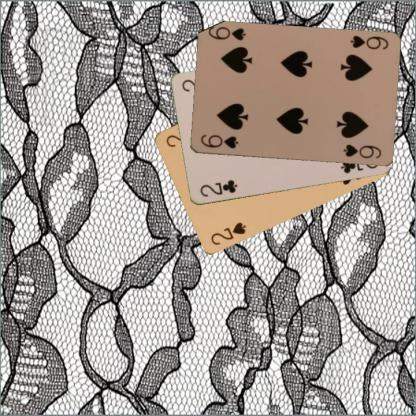2c: (197, 178, 239, 198)
2s: (208, 220, 247, 247)
6s: (348, 33, 390, 51), (198, 132, 239, 150)
